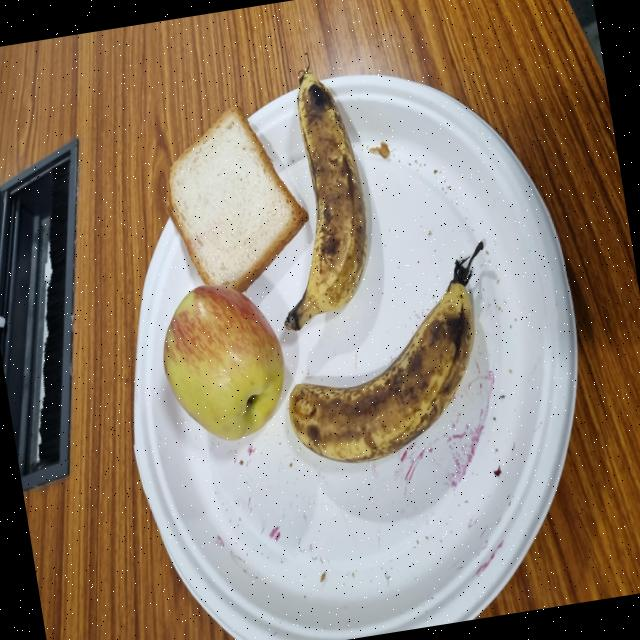apple: (157, 229, 273, 388)
banana: (150, 389, 317, 640), (246, 394, 440, 512)
